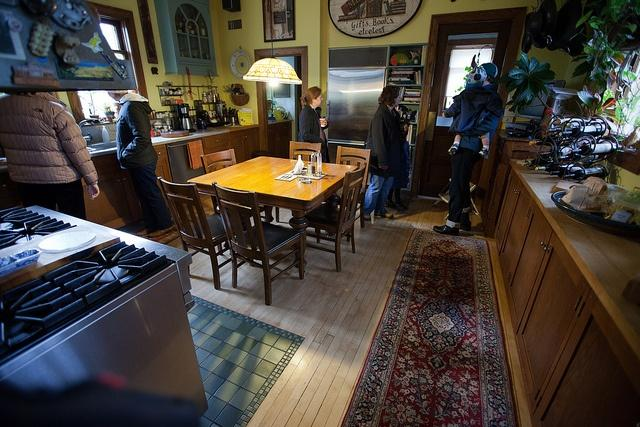Kursi: (211, 180, 304, 305), (156, 175, 231, 290), (305, 162, 367, 272)
Meja: (185, 154, 358, 215)
